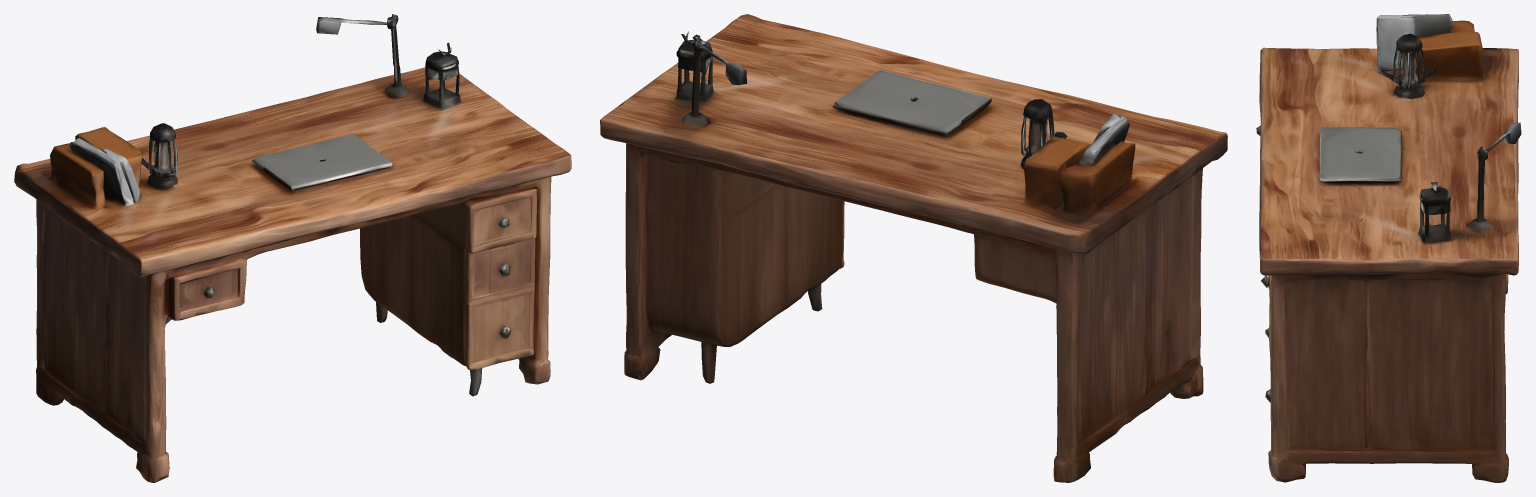
File: desk.glb
The picture shows the model from 3 angles, left to right: view 1: azimuth 30°, elevation 25°; view 2: azimuth 150°, elevation 25°; view 3: azimuth 270°, elevation 25°; orthographic projection. The views are drawn at different scales.
Parts seen in each view (by area): view 1: desk / mesh; view 2: desk / mesh; view 3: desk / mesh.
Part boxes in pixels (x1=…): desk / mesh: x1=14, y1=14, x2=571, y2=482; desk / mesh: x1=600, y1=14, x2=1227, y2=482; desk / mesh: x1=1256, y1=14, x2=1521, y2=482.
Size of the model in its own units: 1.45 by 0.9882 by 0.7636.
1 material, 1 textured.
